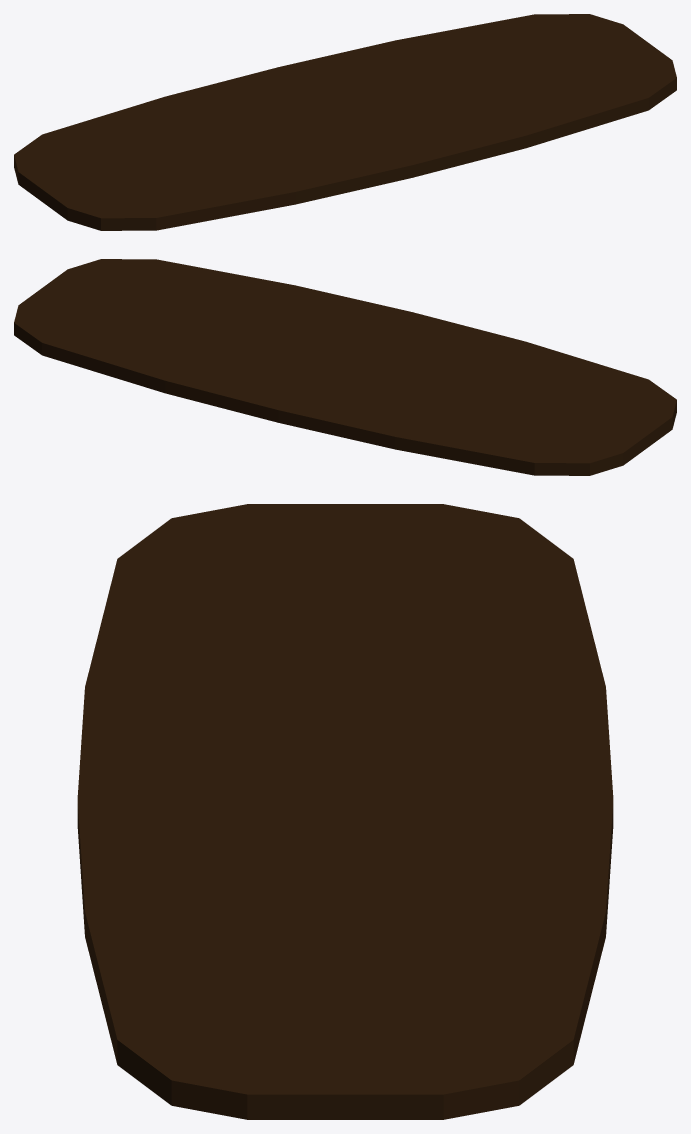
The model's file is table.FBX.
The picture shows the model from 3 angles, top to bottom: view 1: azimuth 30°, elevation 25°; view 2: azimuth 150°, elevation 25°; view 3: azimuth 270°, elevation 25°; orthographic projection. The views are drawn at different scales.
Visible parts, largest first — view 1: table; view 2: table; view 3: table.
Part boxes in pixels (box(x1,y1,x2,y2)): table: box(14, 14, 676, 230); table: box(14, 259, 676, 475); table: box(77, 504, 613, 1119).
Size of the model in its own units: 6.83 by 2.62 by 0.1365.
